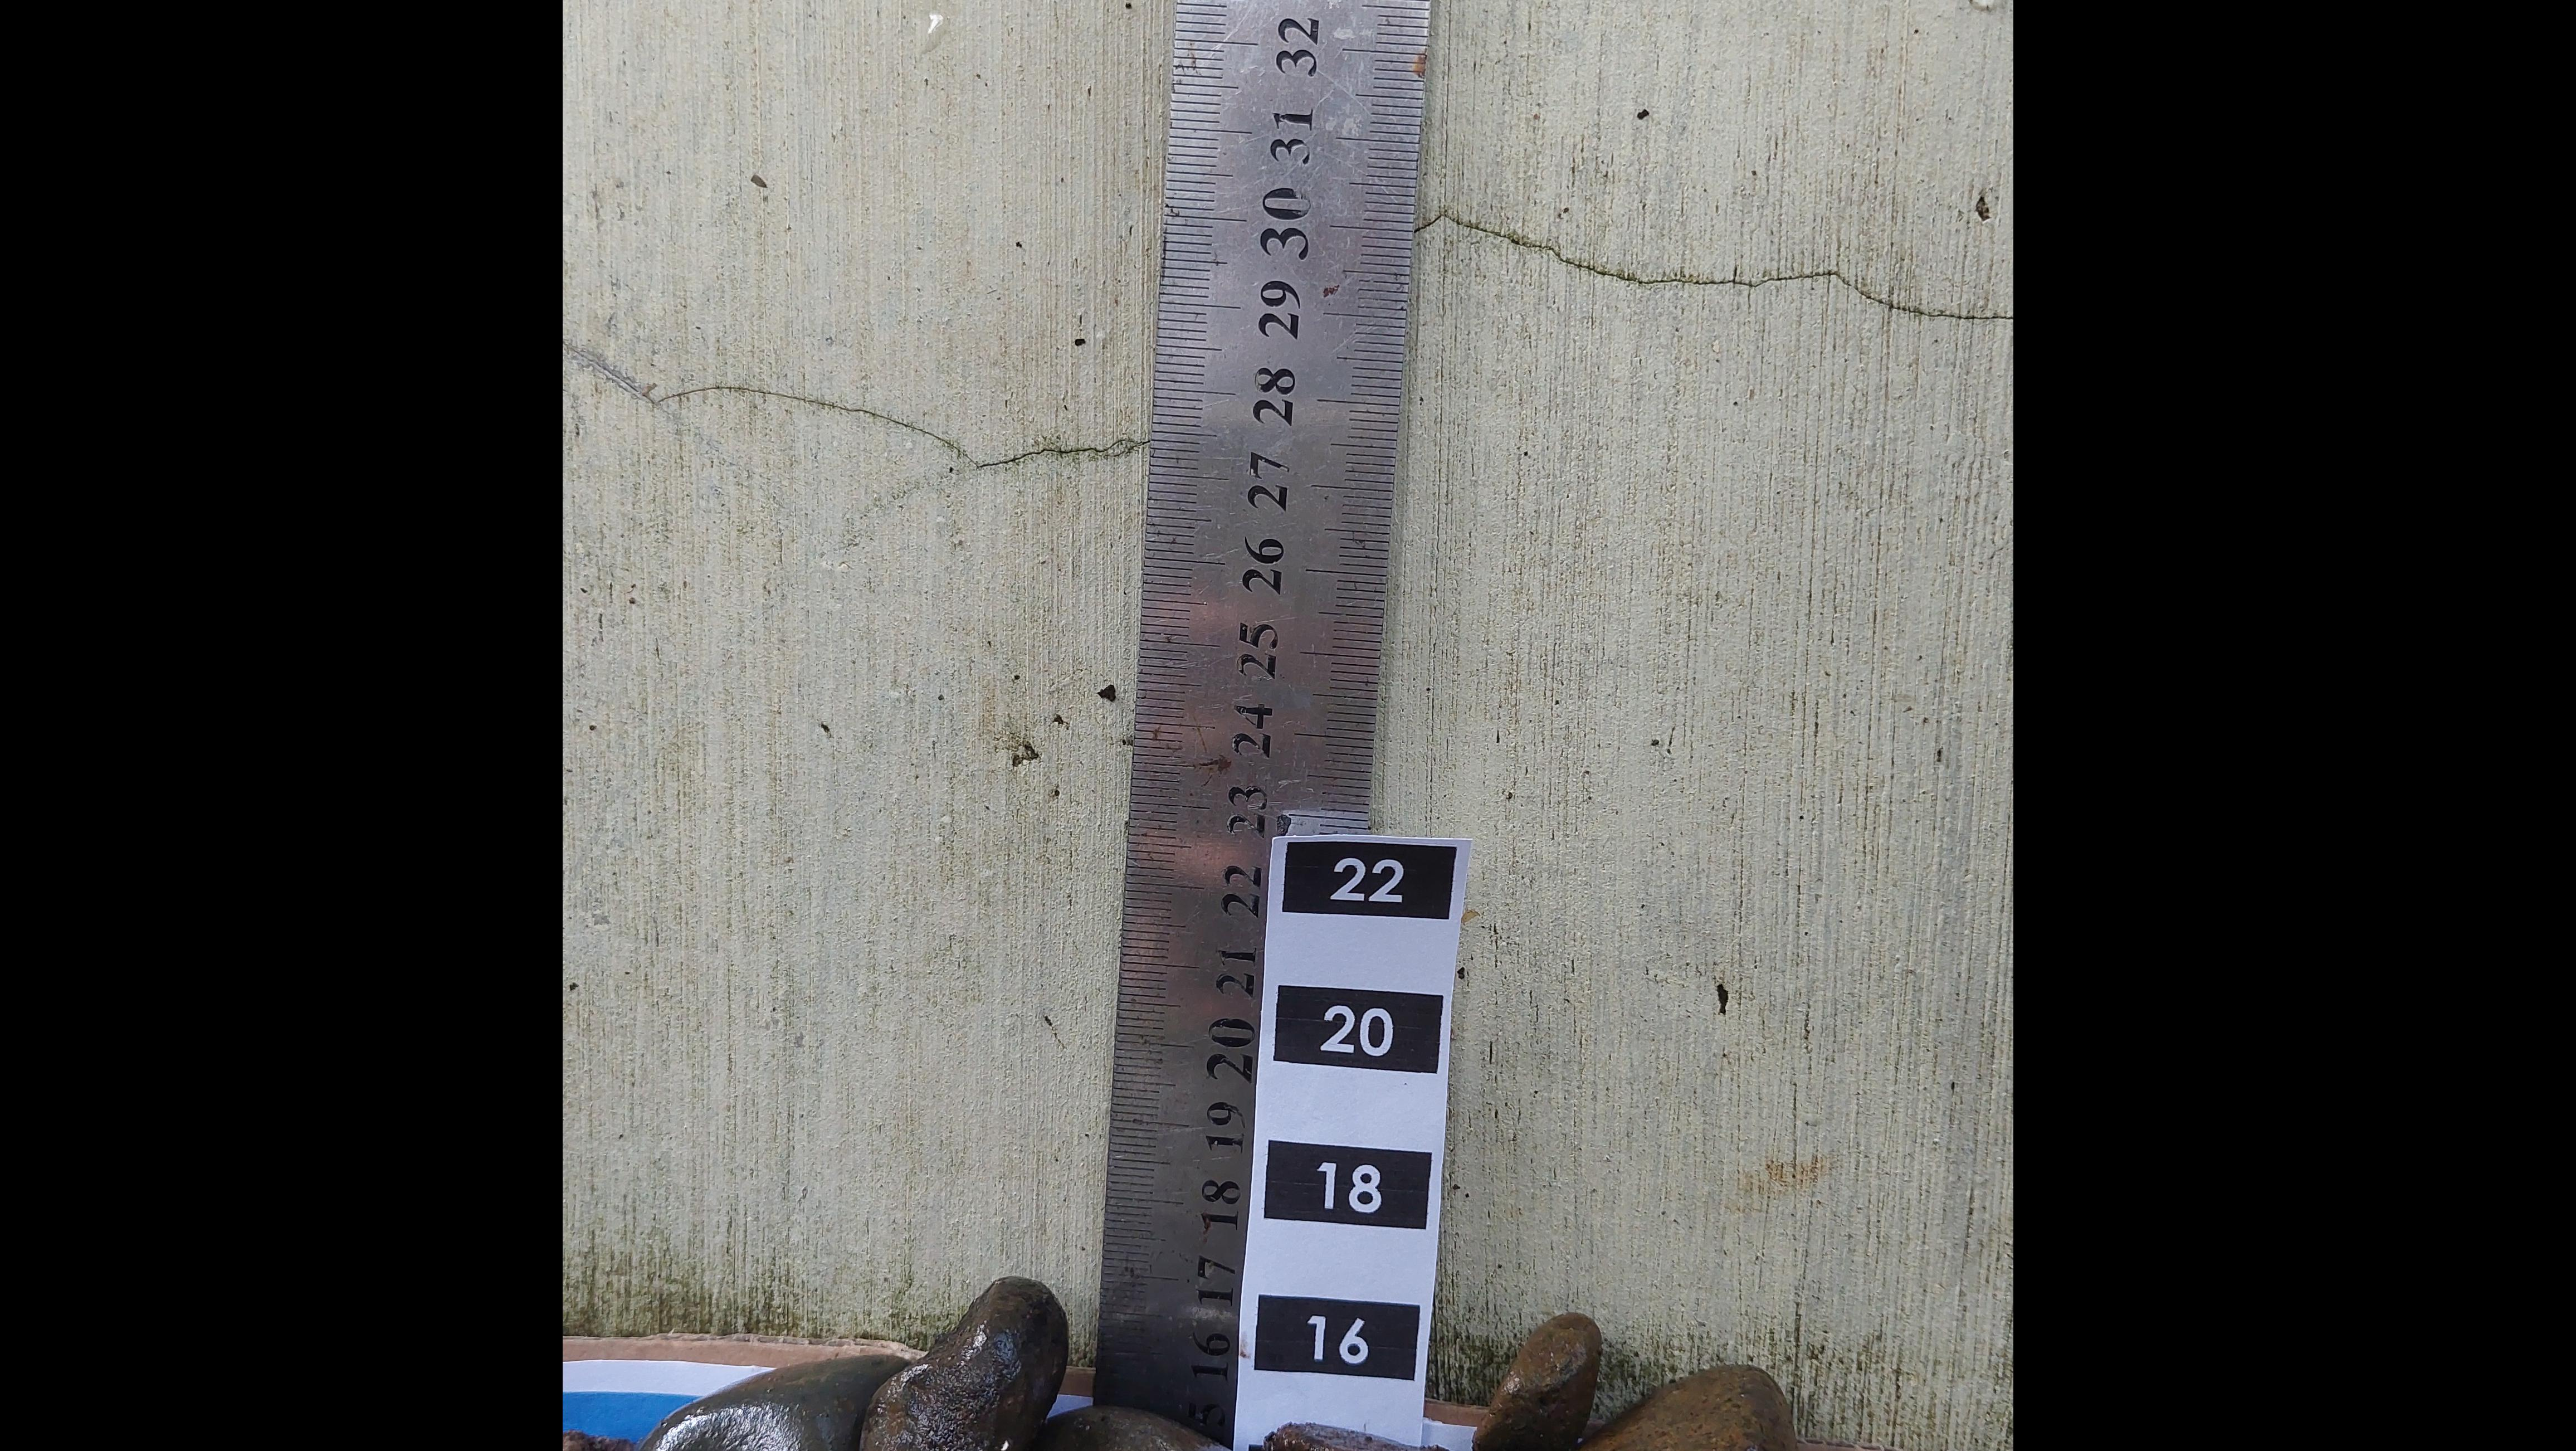kotak_2x1: (1272, 986, 1440, 1074), (1267, 1140, 1426, 1232), (1258, 1295, 1415, 1380), (1286, 841, 1451, 918)
